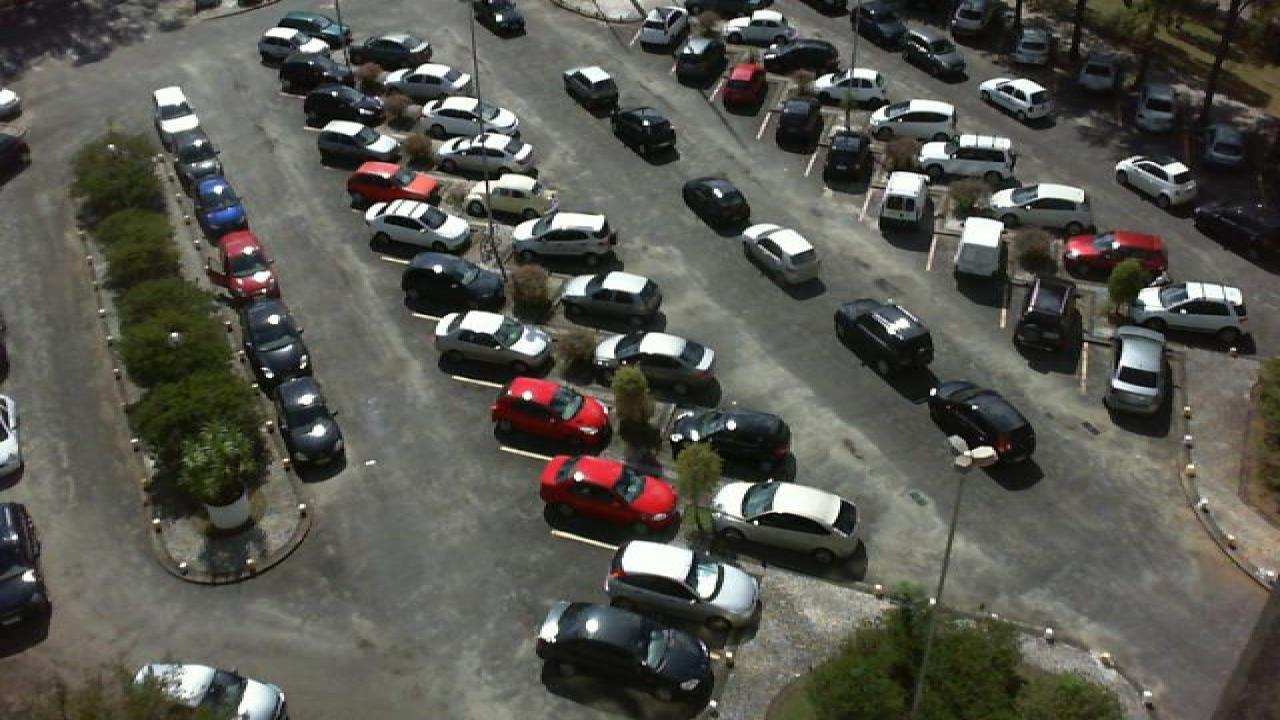Car: (534, 599, 720, 711), (602, 536, 762, 638), (708, 478, 862, 568), (538, 454, 680, 532), (924, 379, 1040, 470), (130, 660, 288, 720), (660, 403, 792, 471), (490, 374, 608, 444), (832, 297, 938, 369), (594, 330, 720, 387), (1128, 279, 1256, 333), (1102, 324, 1176, 416), (432, 308, 550, 364), (1008, 272, 1086, 349), (362, 197, 474, 249), (1058, 227, 1172, 278), (400, 252, 504, 306), (562, 269, 662, 322), (738, 221, 822, 284), (272, 393, 344, 461), (514, 212, 620, 258), (206, 229, 280, 294), (988, 181, 1096, 225), (1114, 154, 1200, 209), (918, 133, 1018, 179), (438, 135, 542, 178), (464, 172, 560, 218), (950, 215, 1010, 285), (680, 176, 752, 234), (346, 160, 442, 202), (420, 96, 520, 135), (238, 303, 304, 362), (888, 30, 968, 78), (868, 98, 960, 139), (876, 171, 936, 233), (610, 106, 678, 160), (316, 119, 400, 161), (978, 75, 1056, 120), (298, 85, 384, 125), (810, 66, 892, 107), (190, 171, 250, 227), (272, 54, 356, 92), (358, 66, 442, 104), (674, 30, 730, 86), (820, 128, 874, 186), (772, 96, 826, 154), (718, 9, 802, 46), (346, 32, 432, 68), (562, 64, 622, 115), (1192, 130, 1248, 184), (150, 84, 210, 134), (258, 358, 318, 407), (758, 38, 844, 72), (168, 124, 226, 172), (1132, 83, 1186, 134), (254, 28, 330, 64), (848, 0, 914, 39), (636, 3, 686, 52), (724, 62, 770, 115), (274, 10, 350, 42), (1072, 48, 1124, 93), (470, 0, 526, 37), (1010, 24, 1060, 65), (948, 0, 988, 35)
